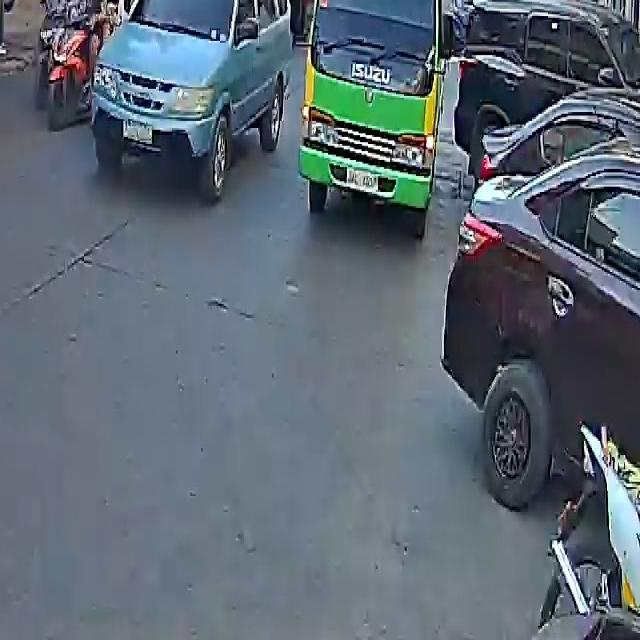car: (444, 153, 640, 516), (91, 0, 301, 204), (449, 0, 640, 178)
